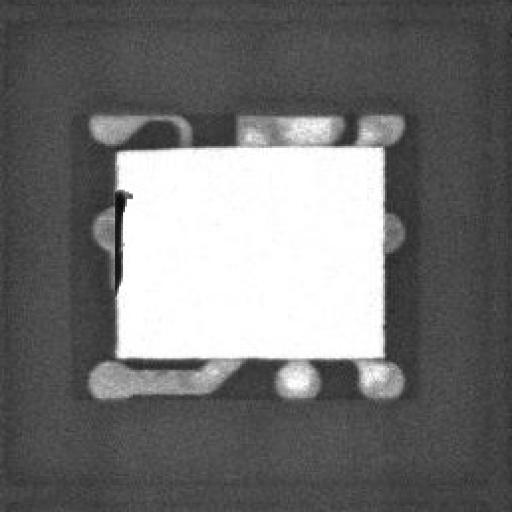DIE_BROKEN: (109, 184, 131, 292)
